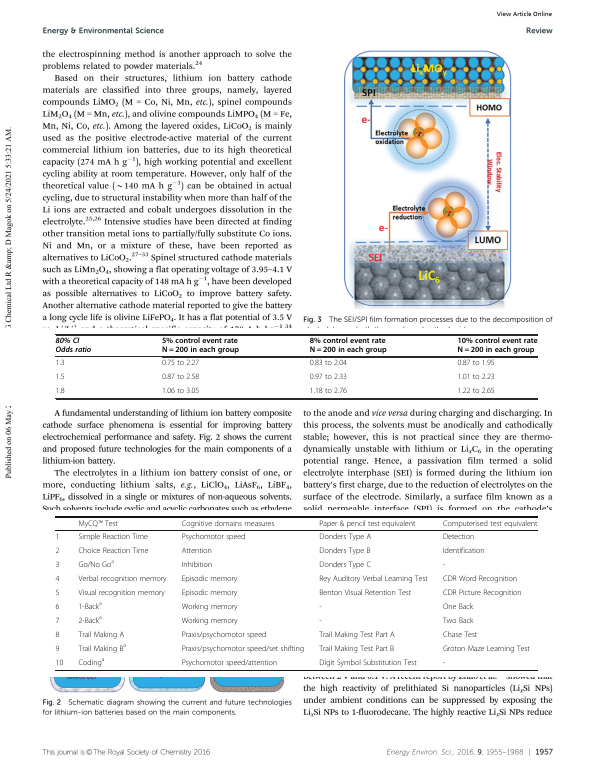borderless: (55, 515, 538, 670), (54, 333, 537, 398)
cell: (457, 337, 538, 355), (161, 337, 240, 355), (309, 337, 388, 355), (181, 644, 305, 654), (318, 574, 429, 584), (318, 658, 418, 668), (181, 658, 278, 668), (318, 588, 412, 598), (77, 574, 167, 584), (77, 588, 166, 598), (442, 644, 531, 654), (318, 519, 416, 528), (442, 519, 538, 528), (181, 630, 267, 640), (181, 519, 275, 528), (442, 588, 523, 598), (318, 630, 396, 640), (318, 644, 395, 654), (442, 574, 518, 584), (77, 532, 149, 542), (77, 546, 149, 556), (181, 532, 246, 542), (55, 337, 92, 354), (77, 642, 127, 654), (181, 602, 239, 612), (181, 616, 239, 626), (181, 574, 238, 584), (181, 588, 238, 598), (318, 532, 372, 542), (318, 560, 372, 570), (318, 546, 371, 556), (77, 630, 125, 640), (77, 558, 115, 570), (442, 546, 485, 556), (77, 519, 119, 528), (442, 630, 478, 640), (77, 656, 105, 668), (442, 532, 475, 542), (181, 546, 213, 556), (181, 560, 213, 570), (442, 602, 474, 612), (442, 616, 474, 626), (77, 600, 103, 612), (77, 614, 103, 626), (161, 360, 200, 367), (309, 360, 348, 367), (457, 360, 496, 367), (161, 374, 200, 381), (309, 374, 348, 381), (457, 374, 496, 381), (161, 388, 200, 395), (309, 388, 348, 395), (457, 388, 496, 395), (55, 658, 64, 668), (55, 360, 65, 367), (55, 374, 65, 381), (55, 388, 65, 395), (54, 532, 60, 542), (54, 546, 60, 556), (54, 560, 60, 570), (55, 574, 60, 584), (55, 588, 60, 598), (55, 602, 60, 612), (318, 602, 323, 612), (55, 616, 60, 626), (318, 616, 323, 626), (55, 630, 60, 640), (55, 644, 60, 654), (442, 560, 446, 570), (442, 658, 446, 668)
